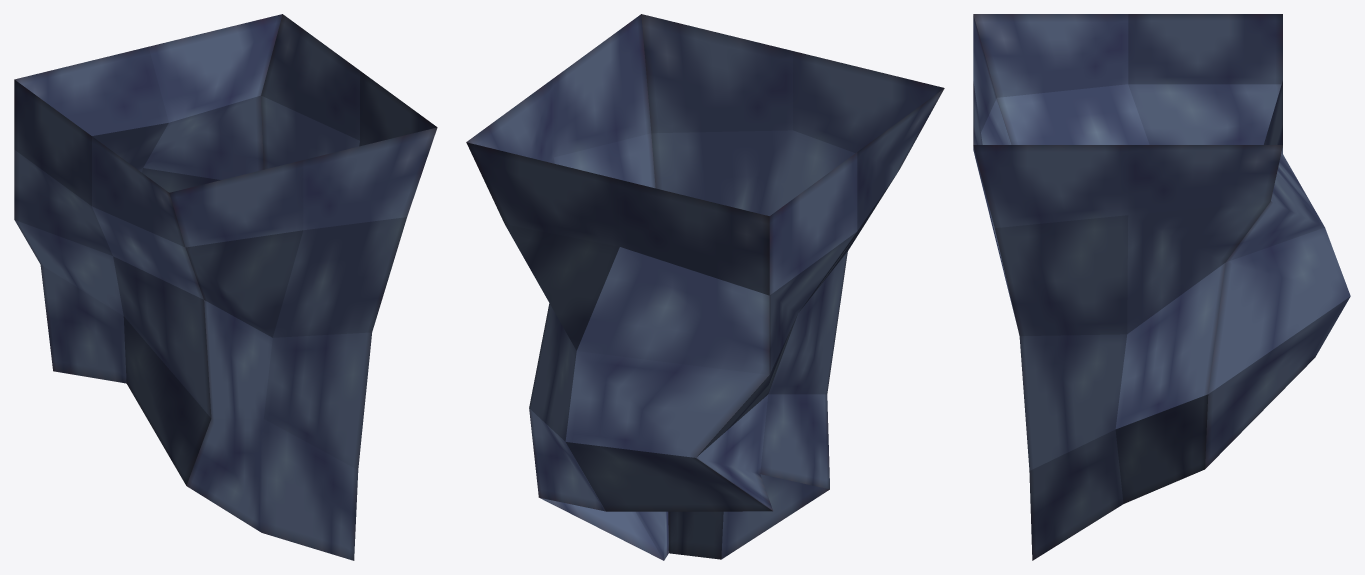
The model's file is stalagmit.fbx.
3 renders of one model, left to right at view 1: azimuth 30°, elevation 25°; view 2: azimuth 150°, elevation 25°; view 3: azimuth 270°, elevation 25°, orthographic. The views are drawn at different scales.
Parts seen in each view (by area): view 1: Cube.141; view 2: Cube.141; view 3: Cube.141.
Part boxes in pixels (x1,y1,x2,y2): Cube.141: [14, 14, 437, 560]; Cube.141: [466, 14, 944, 560]; Cube.141: [973, 14, 1350, 560].
Bounding box in the file's own units: 200 × 315 × 244.
